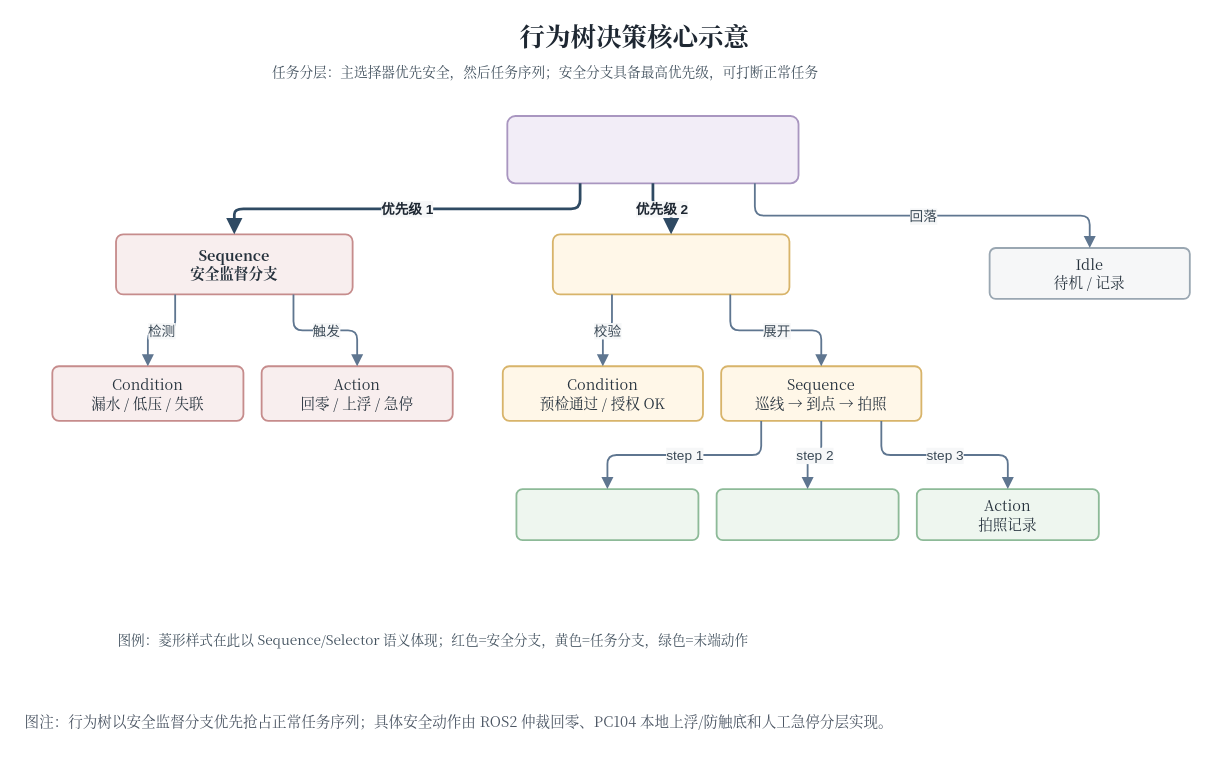
Image size: 1206x768. Some labels were removed from this diagram. Here are the shapes that lost their labels. From the top down, the centre of each, then its label:
At [652,149]: "Selector 主根节点（优先级从左到右）".
At [670,264]: "Sequence 任务执行分支".
At [607,514]: "Action 巡线跟踪".
At [807,514]: "Action 到点悬停".
